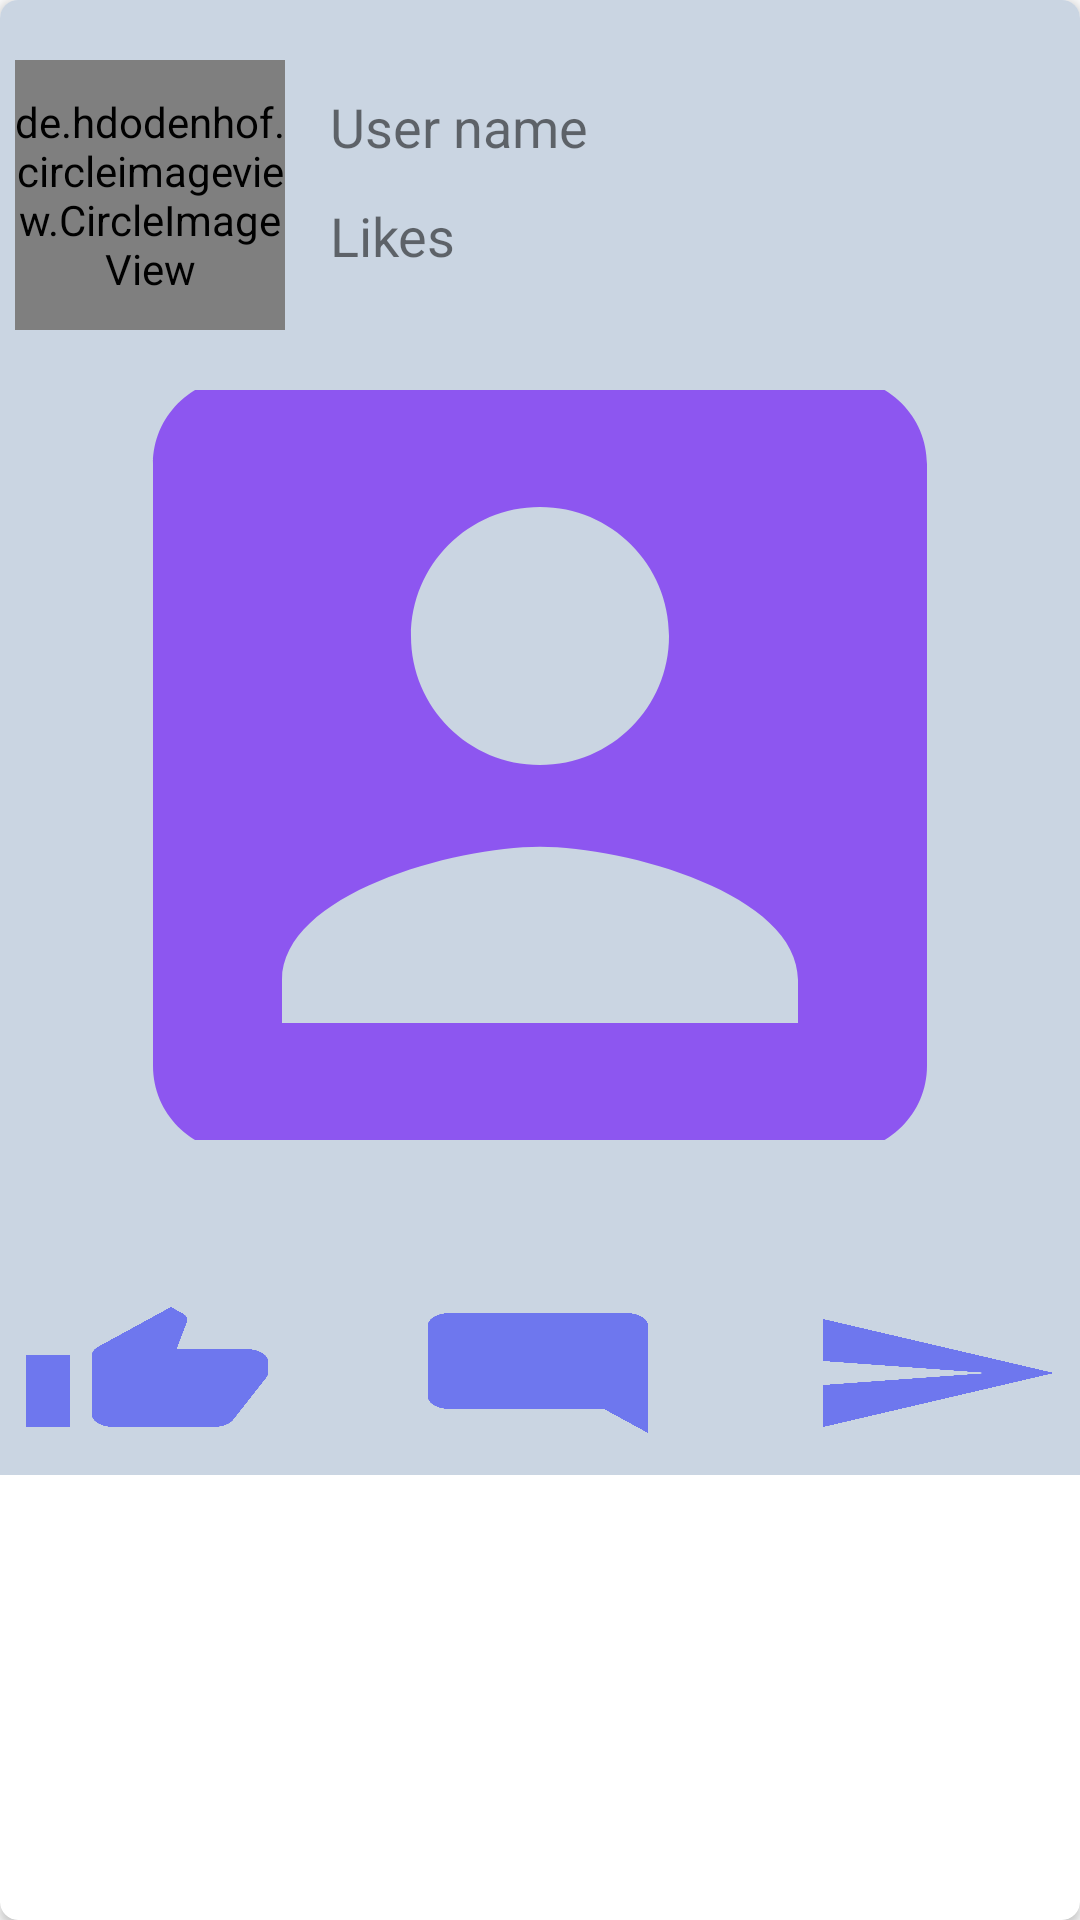

Named icons in this screenshot (1080px x 1920px) and their centers, (x=x, y=y):
like: (x=147, y=1367)
share: (x=937, y=1373)
